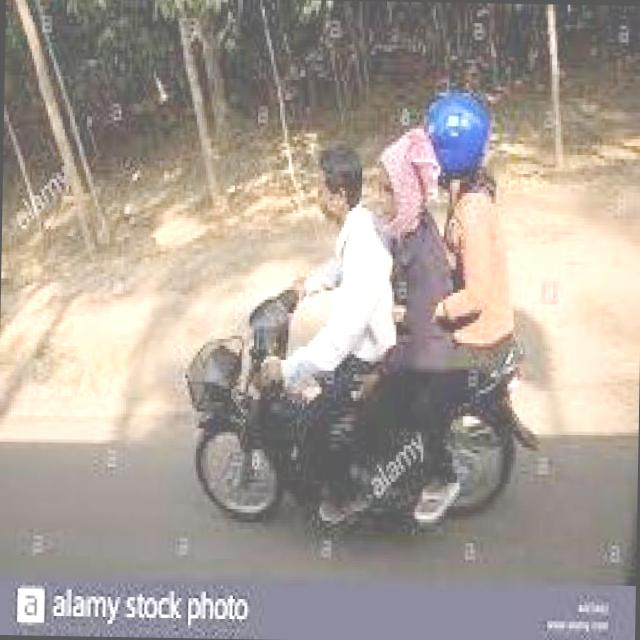motorcycle: (180, 278, 534, 538)
person: (244, 128, 400, 450), (412, 86, 522, 426), (353, 117, 446, 442)
rider_region: (184, 84, 530, 532)
